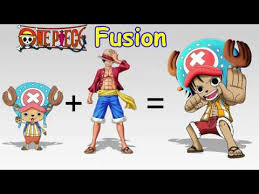chopper: (3, 82, 63, 129)
luffy: (96, 49, 120, 68)
